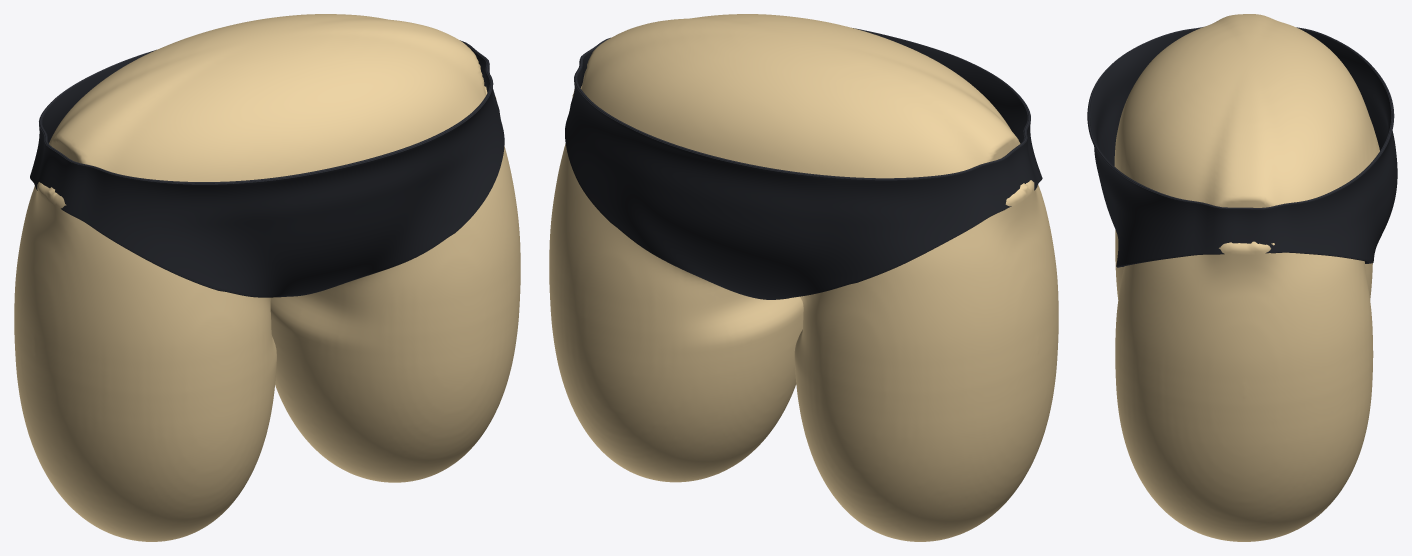
The model's file is Feminine-bikini-bottom.glb.
3 views of the same model, side by side, from view 1: azimuth 30°, elevation 25°; view 2: azimuth 150°, elevation 25°; view 3: azimuth 270°, elevation 25° (orthographic). The views are drawn at different scales.
Parts seen in each view (by area): view 1: Skin / bikini lower body, Bottom / curved bikini190, Bottom / bikini seated edge190 2 export; view 2: Skin / bikini lower body, Bottom / curved bikini190, Bottom / bikini seated edge190 2 export; view 3: Skin / bikini lower body, Bottom / curved bikini190, Bottom / bikini seated edge190 2 export.
Part boxes in pixels (x1=…): Skin / bikini lower body: x1=14, y1=14, x2=520, y2=541; Bottom / curved bikini190: x1=30, y1=42, x2=504, y2=297; Bottom / bikini seated edge190 2 export: x1=39, y1=40, x2=492, y2=183; Skin / bikini lower body: x1=549, y1=14, x2=1058, y2=541; Bottom / curved bikini190: x1=565, y1=31, x2=1042, y2=299; Bottom / bikini seated edge190 2 export: x1=575, y1=28, x2=1030, y2=179; Skin / bikini lower body: x1=1114, y1=14, x2=1379, y2=541; Bottom / curved bikini190: x1=1087, y1=28, x2=1397, y2=266; Bottom / bikini seated edge190 2 export: x1=1088, y1=27, x2=1393, y2=208.
Size of the model in its own units: 0.6361 by 0.5993 by 0.4023.
